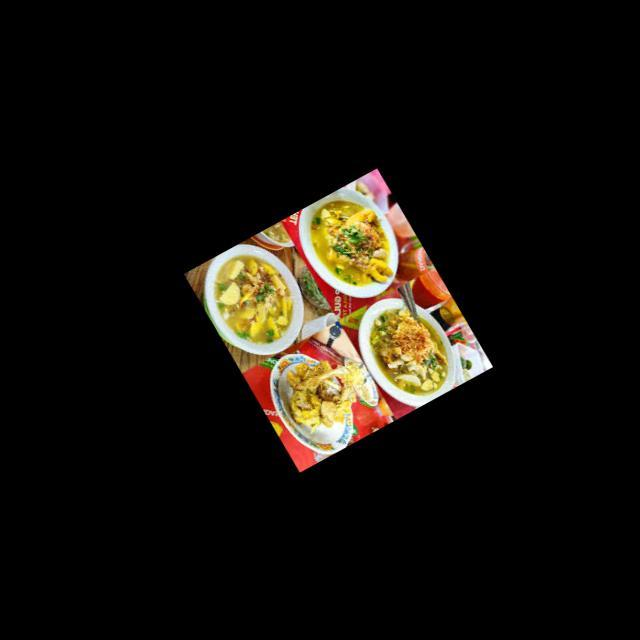Soto: (191, 168, 494, 470), (202, 246, 296, 343), (302, 195, 398, 289), (363, 303, 456, 394)
